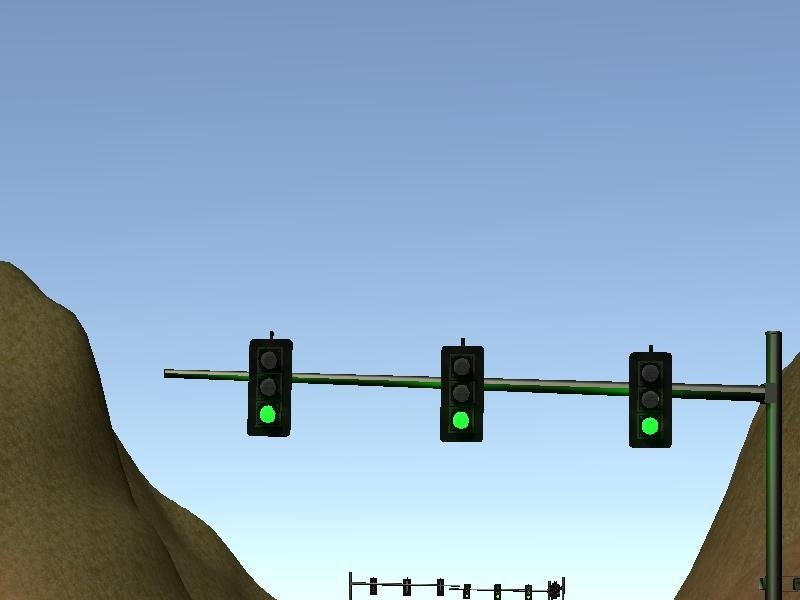green: (244, 337, 294, 438), (626, 349, 674, 450), (438, 344, 485, 444)
